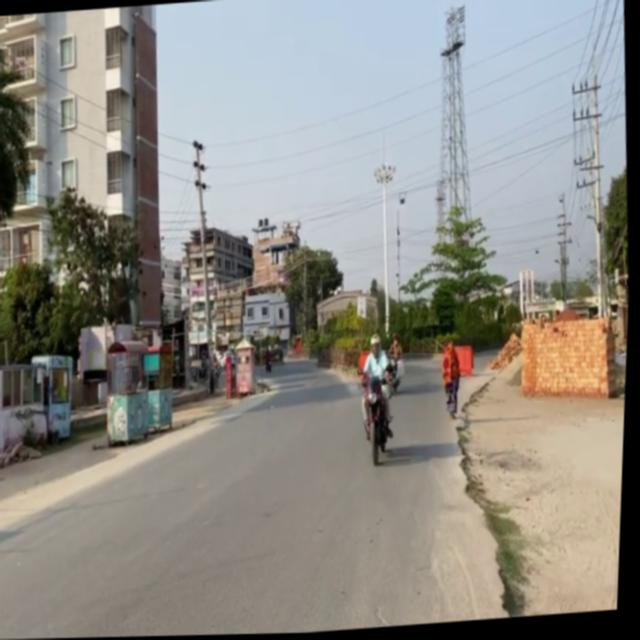Construction-barrier: (448, 355, 541, 622)
Downstairs: (93, 312, 196, 461)
Fallen-tree: (358, 372, 401, 468), (445, 375, 464, 422), (266, 361, 275, 374)
Garbage: (510, 306, 631, 418), (234, 339, 260, 398)
Garbage-bin: (359, 334, 401, 443), (441, 342, 467, 422), (387, 335, 408, 391)
Pothole: (451, 343, 630, 623)
Sidewalk: (314, 301, 380, 373)
